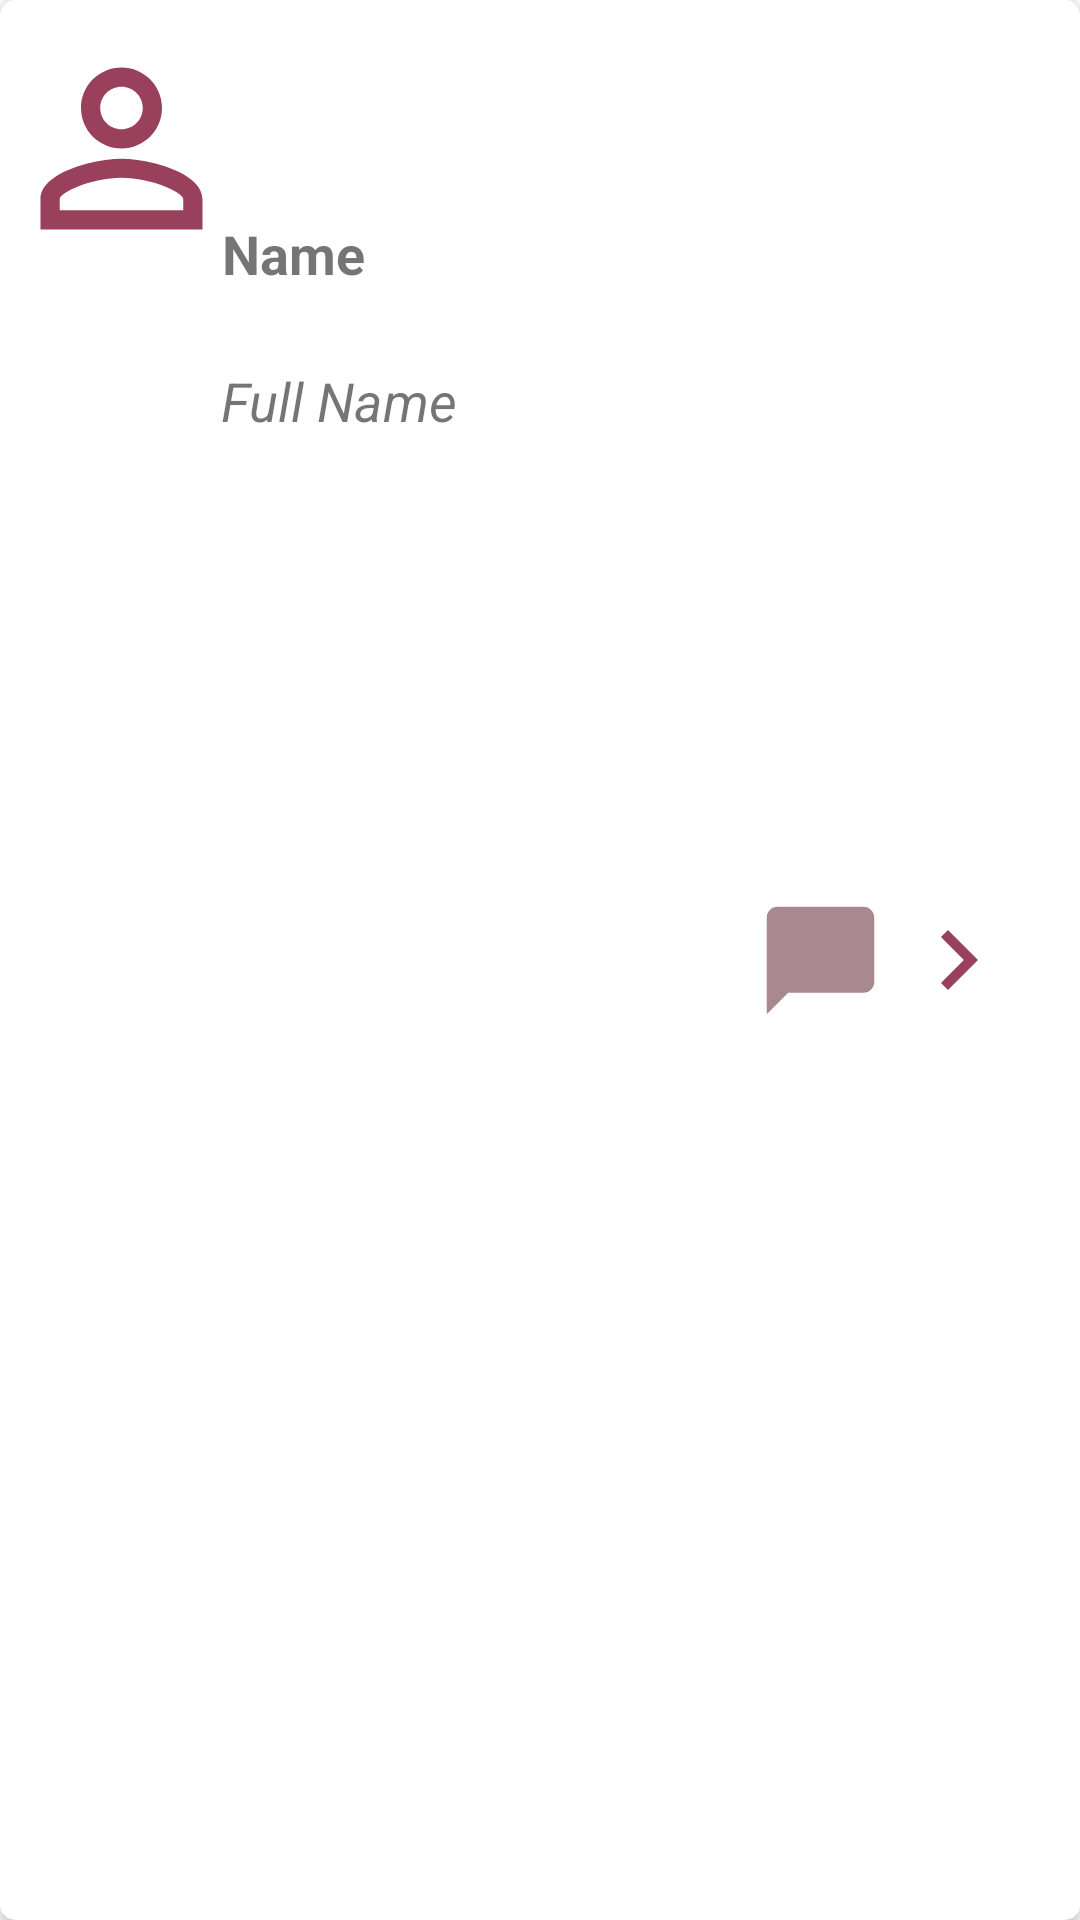

Point at icon controls on the screen. Image size 1080px x 1920px, points as point (x, y).
chatlist profile: point (101, 119)
chatrow next: point (959, 960)
contacts chat: point (820, 960)
